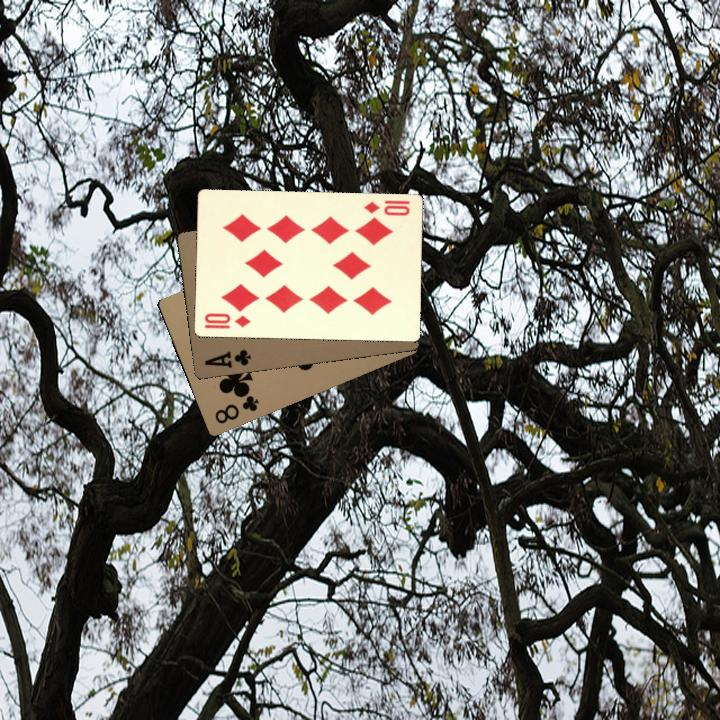10d: (200, 309, 253, 331), (360, 196, 412, 218)
8c: (211, 390, 261, 426)
Ac: (200, 345, 253, 371)
